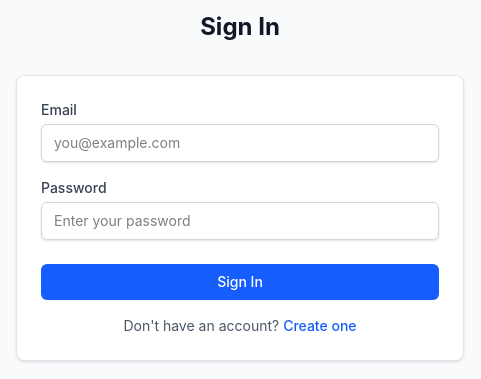
Scenario: LoginPage › shows a loading indicator on the button while submitting
Type "test@example.com" into the field labelled "Email" at (240, 143), box 41,124 -> 439,162
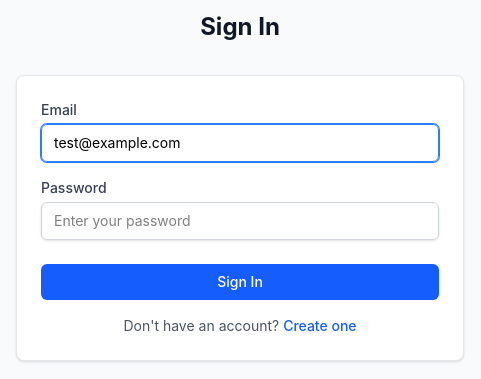
Type "password123" into the password field labelled "Password" at (240, 221), box 41,202 -> 439,240
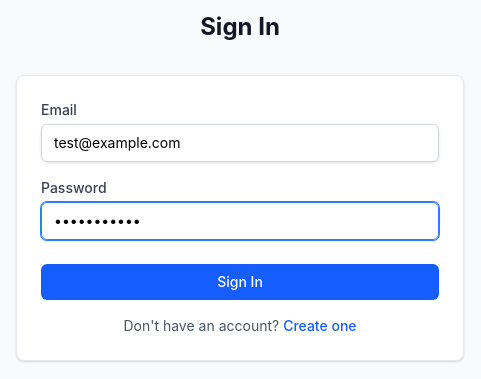
Click the button "Sign In" at (240, 282), box 41,264 -> 439,300
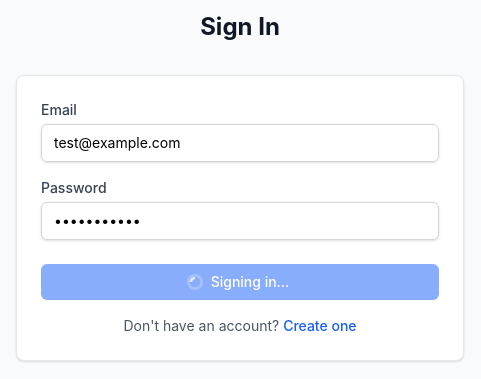
expect the button "Signing in..." is shown: met, box 41,264 -> 439,300
